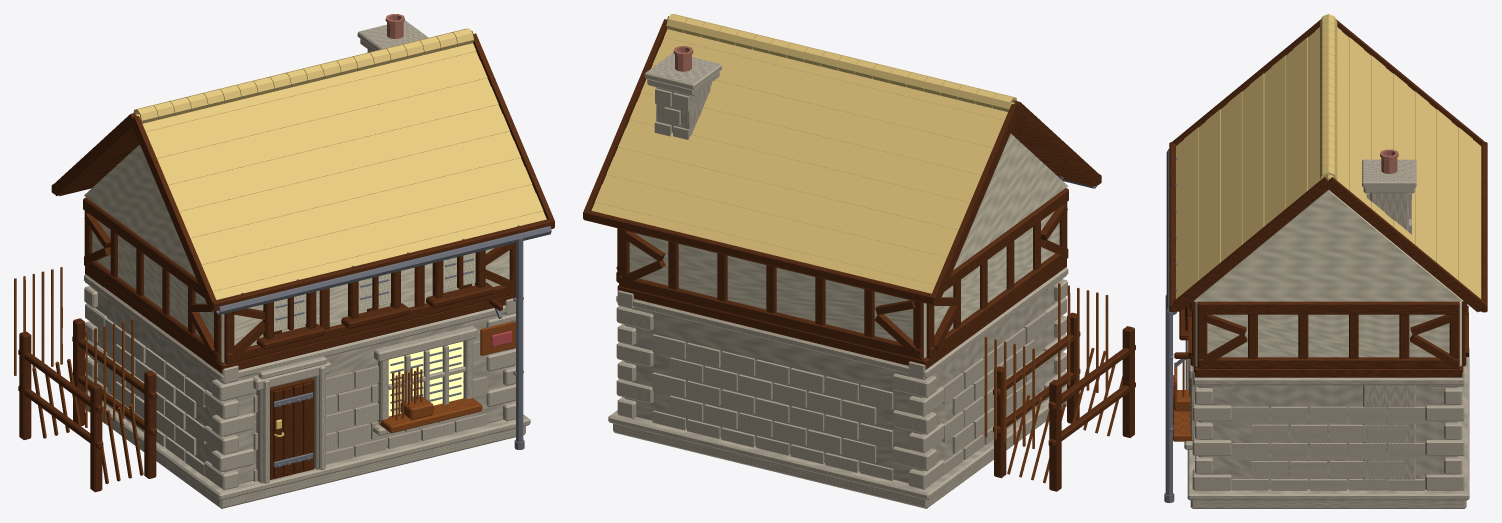
File: fantasy-mmo-city-and-townsfolk-fletcher-bowyer-shop-a02d4803__32733.glb
3 views of the same model, side by side, from view 1: azimuth 30°, elevation 25°; view 2: azimuth 150°, elevation 25°; view 3: azimuth 270°, elevation 25° (orthographic). The views are drawn at different scales.
Parts seen in each view (by area): view 1: fletcher-bowyer-shop, door/timber, sign/wood; view 2: fletcher-bowyer-shop; view 3: fletcher-bowyer-shop.
Boxes of the visible parts, left/top/right/bottom form: fletcher-bowyer-shop: left=14, top=14, right=554, bottom=508; door/timber: left=270, top=378, right=314, bottom=479; sign/wood: left=480, top=320, right=515, bottom=355; fletcher-bowyer-shop: left=583, top=14, right=1135, bottom=508; fletcher-bowyer-shop: left=1164, top=14, right=1487, bottom=508.
Size of the model in its own units: 10.85 by 8.74 by 7.45.
Materials: 10 (6 with a texture image).
